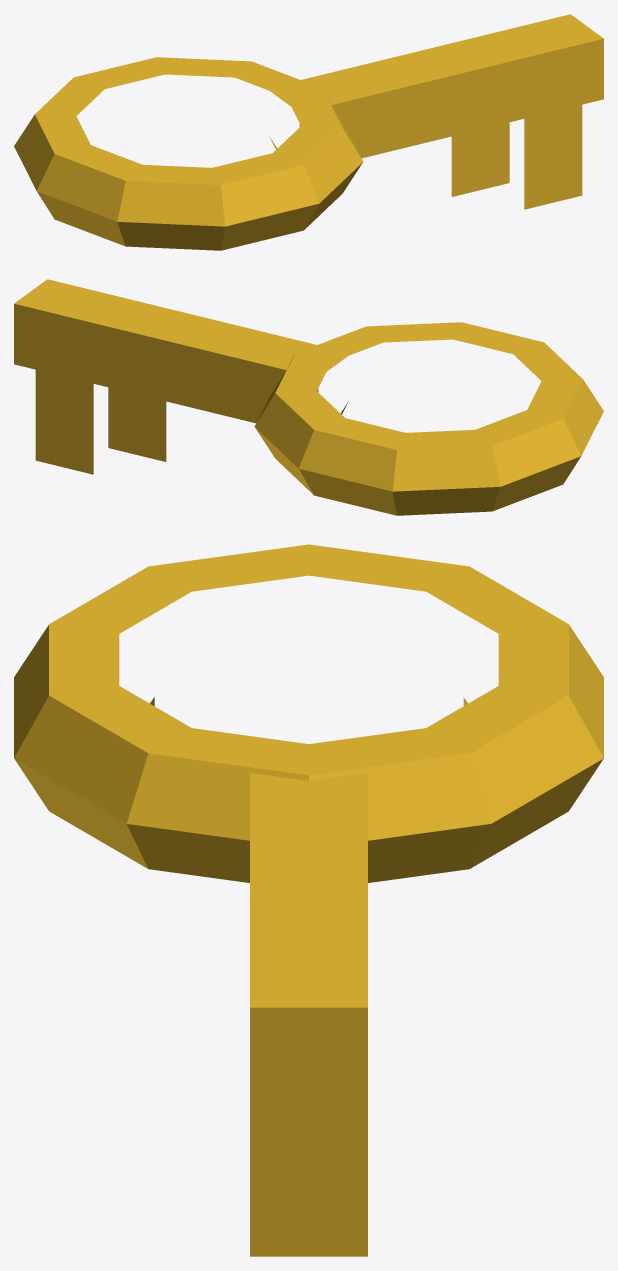
Rendered from key.glb.
3 renders of one model, top to bottom at view 1: azimuth 30°, elevation 25°; view 2: azimuth 150°, elevation 25°; view 3: azimuth 270°, elevation 25°, orthographic. The views are drawn at different scales.
Visible parts, largest first — view 1: key; view 2: key; view 3: key.
Boxes of the visible parts, bbox=[...] form: key: bbox=[14, 14, 603, 250]; key: bbox=[14, 279, 603, 515]; key: bbox=[14, 544, 603, 1256].
Size of the model in its own units: 0.76 by 0.2033 by 0.3995.
Materials: 1 (1 with a texture image).
